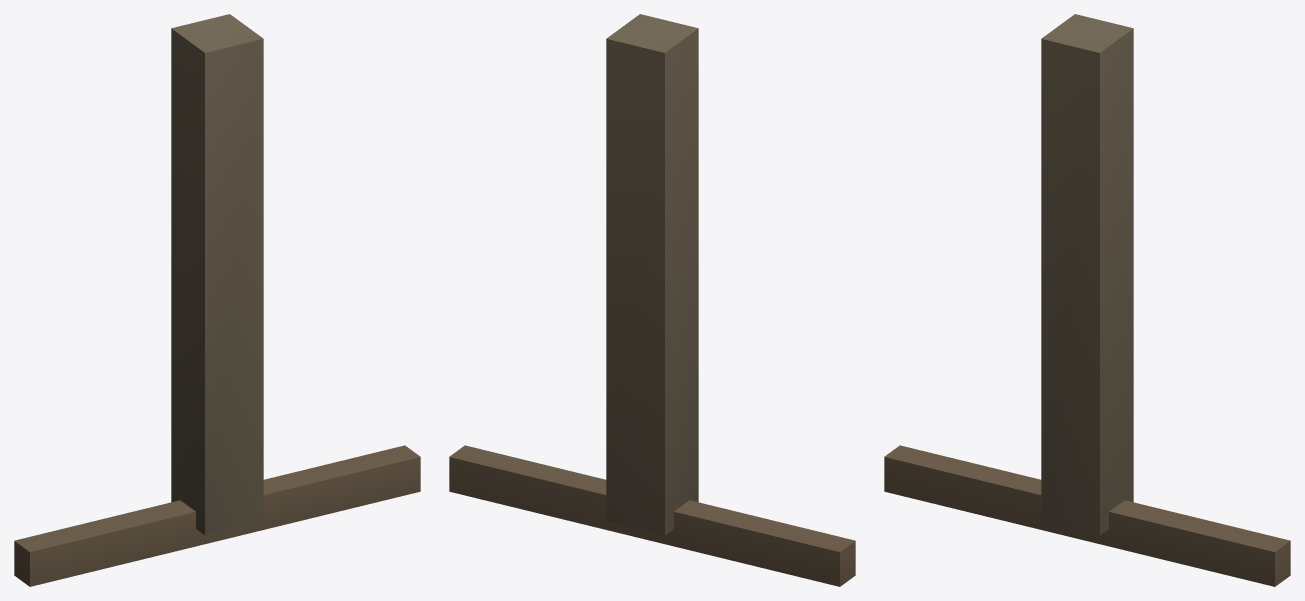
File: fence-kit.m1.glb
3 views of the same model, side by side, from view 1: azimuth 30°, elevation 25°; view 2: azimuth 150°, elevation 25°; view 3: azimuth 330°, elevation 25° (orthographic).
Visible parts, largest first — view 1: fencePostInstances, fenceRailInstances; view 2: fencePostInstances, fenceRailInstances; view 3: fencePostInstances, fenceRailInstances.
Boxes of the visible parts, left/top/right/bottom form: fencePostInstances: left=171, top=14, right=263, bottom=535; fenceRailInstances: left=14, top=445, right=420, bottom=586; fencePostInstances: left=606, top=14, right=698, bottom=535; fenceRailInstances: left=449, top=445, right=855, bottom=586; fencePostInstances: left=1041, top=14, right=1133, bottom=535; fenceRailInstances: left=884, top=445, right=1290, bottom=586.
Size of the model in its own units: 1 by 1.22 by 0.15.
